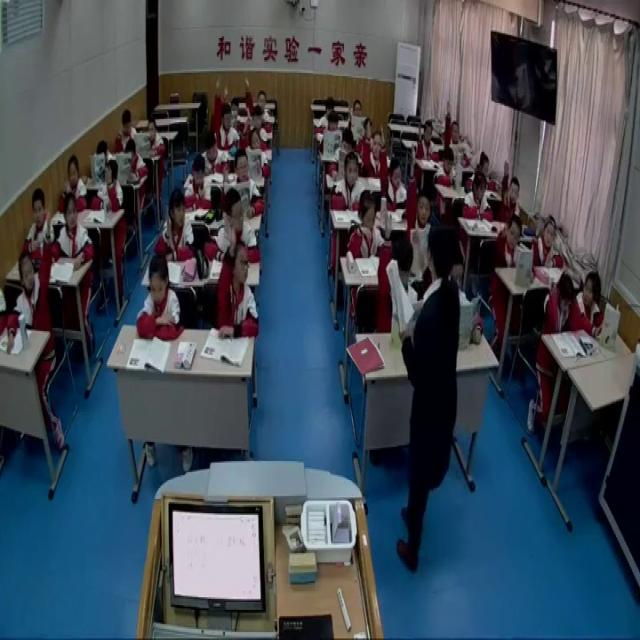distracted: (573, 264, 609, 343)
focused: (138, 257, 182, 348), (213, 186, 262, 265), (52, 190, 94, 271), (543, 268, 581, 336), (343, 196, 385, 257), (329, 150, 369, 212), (458, 168, 495, 222), (26, 185, 52, 257), (92, 160, 124, 213), (186, 153, 212, 210), (434, 144, 462, 195), (201, 132, 231, 178), (318, 108, 344, 159), (119, 142, 150, 184), (329, 128, 355, 178), (142, 113, 166, 165), (472, 147, 496, 190), (115, 111, 140, 152), (93, 139, 114, 176), (347, 99, 365, 138)
raising_hand: (6, 204, 54, 331), (214, 217, 259, 341), (408, 144, 438, 282), (377, 203, 407, 334), (151, 187, 197, 266), (220, 148, 268, 215), (379, 125, 413, 211), (240, 115, 275, 178), (213, 75, 240, 151), (58, 151, 92, 211), (240, 74, 274, 134), (530, 212, 561, 275), (494, 214, 526, 268), (361, 115, 387, 178), (415, 114, 443, 168), (442, 96, 465, 157), (500, 160, 520, 227)
